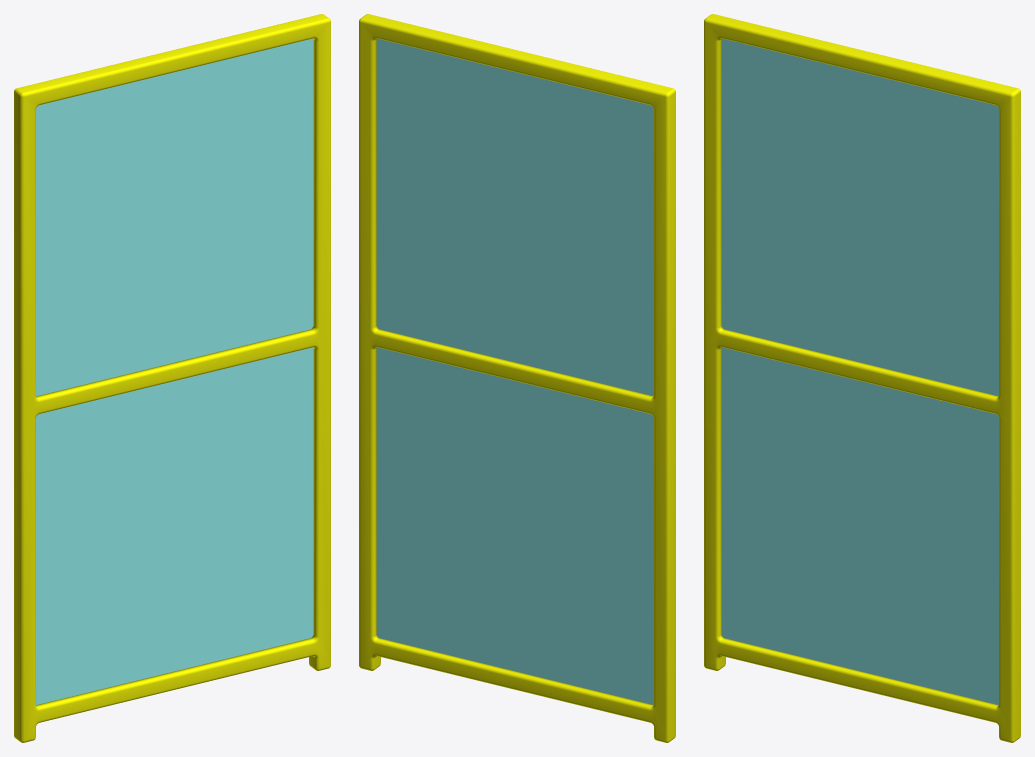
3 renders of one model, left to right at view 1: azimuth 30°, elevation 25°; view 2: azimuth 150°, elevation 25°; view 3: azimuth 330°, elevation 25°, orthographic.
Visible parts, largest first — view 1: node0, node2, node1; view 2: node0, node2, node1; view 3: node2, node0, node1.
Boxes of the visible parts, box(x1,y1,x2,y2) form: node0: box(36, 347, 313, 704); node2: box(36, 38, 313, 396); node1: box(14, 14, 330, 742); node0: box(376, 347, 653, 704); node2: box(376, 38, 653, 396); node1: box(359, 14, 675, 742); node2: box(721, 38, 998, 396); node0: box(721, 347, 998, 704); node1: box(704, 14, 1020, 742).
Size of the model in its own units: 1 by 0.05 by 2.
